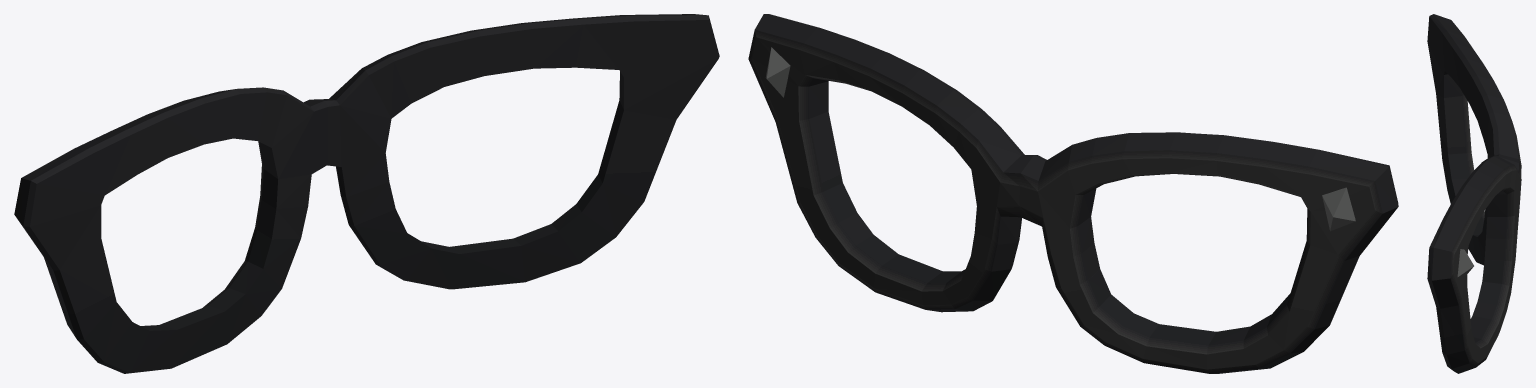
The model's file is CharSkyKid_Horn_AP19Glasses.glb.
The picture shows the model from 3 angles, left to right: view 1: azimuth 30°, elevation 25°; view 2: azimuth 150°, elevation 25°; view 3: azimuth 270°, elevation 25°; orthographic projection. The views are drawn at different scales.
Visible parts, largest first — view 1: CharSkyKid_Horn_AP19Glasses; view 2: CharSkyKid_Horn_AP19Glasses; view 3: CharSkyKid_Horn_AP19Glasses.
Boxes of the visible parts, left/top/right/bottom form: CharSkyKid_Horn_AP19Glasses: left=14, top=14, right=719, bottom=373; CharSkyKid_Horn_AP19Glasses: left=748, top=14, right=1398, bottom=373; CharSkyKid_Horn_AP19Glasses: left=1427, top=14, right=1521, bottom=373.
Bounding box in the file's own units: 2.59 × 0.9209 × 0.4299.
1 material, 1 textured.
